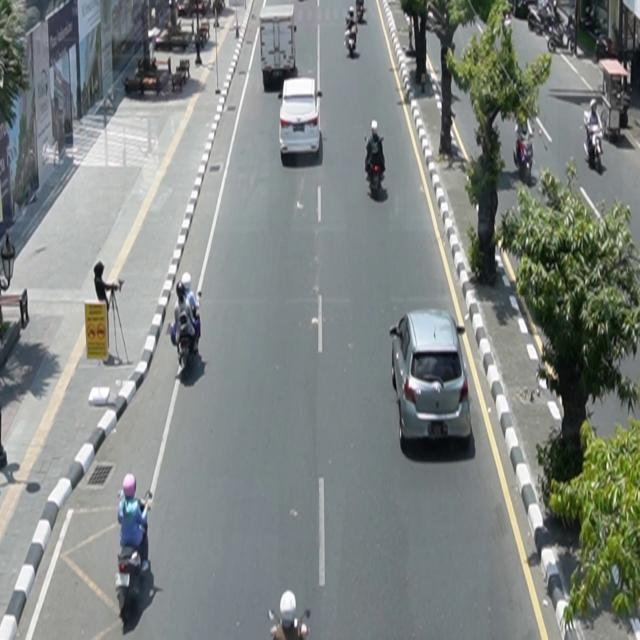car: (390, 308, 473, 448), (279, 77, 323, 157)
